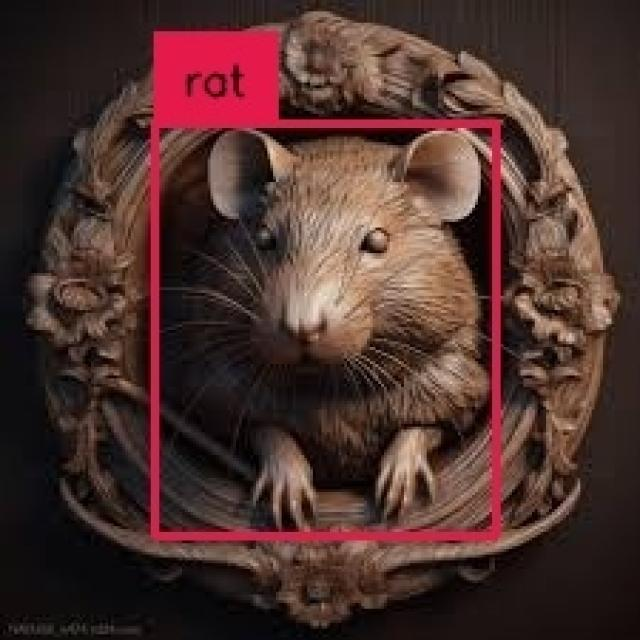rat: (154, 124, 495, 536)
